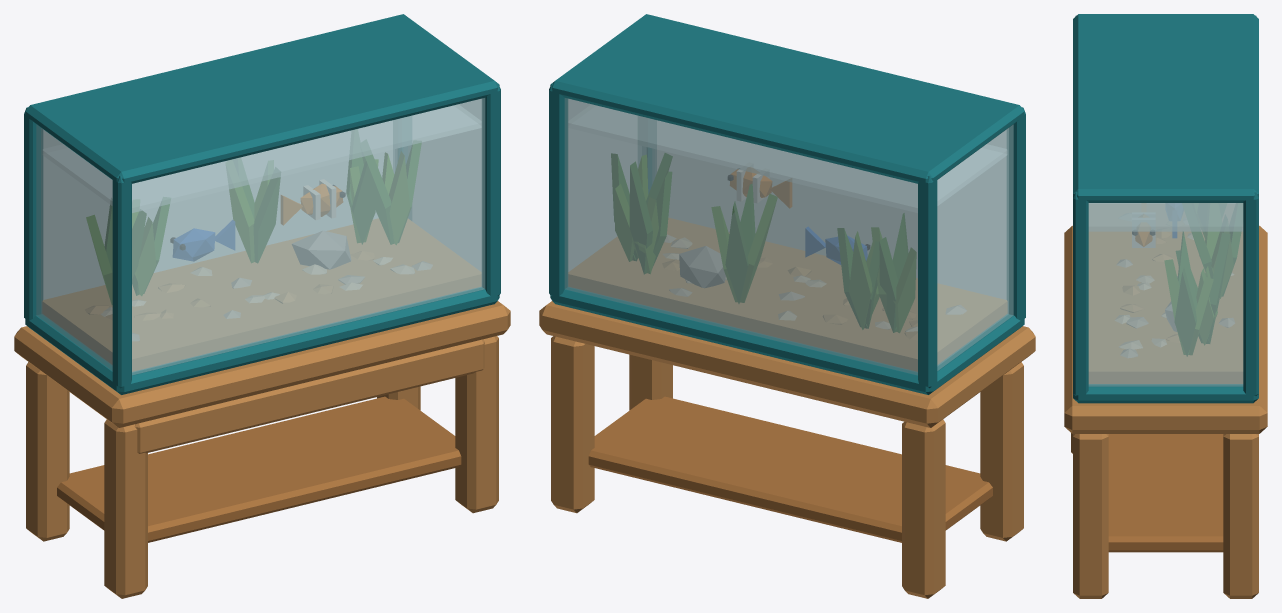
Rendered from aquarium.glb.
3 views of the same model, side by side, from view 1: azimuth 30°, elevation 25°; view 2: azimuth 150°, elevation 25°; view 3: azimuth 270°, elevation 25° (orthographic). The views are drawn at different scales.
Parts seen in each view (by area): view 1: aquarium; view 2: aquarium; view 3: aquarium.
Part boxes in pixels (x1,y1,x2,y2): aquarium: [14, 14, 510, 598]; aquarium: [539, 14, 1035, 598]; aquarium: [1064, 14, 1267, 598].
Bounding box in the file's own units: 1 × 1.02 × 0.46.
